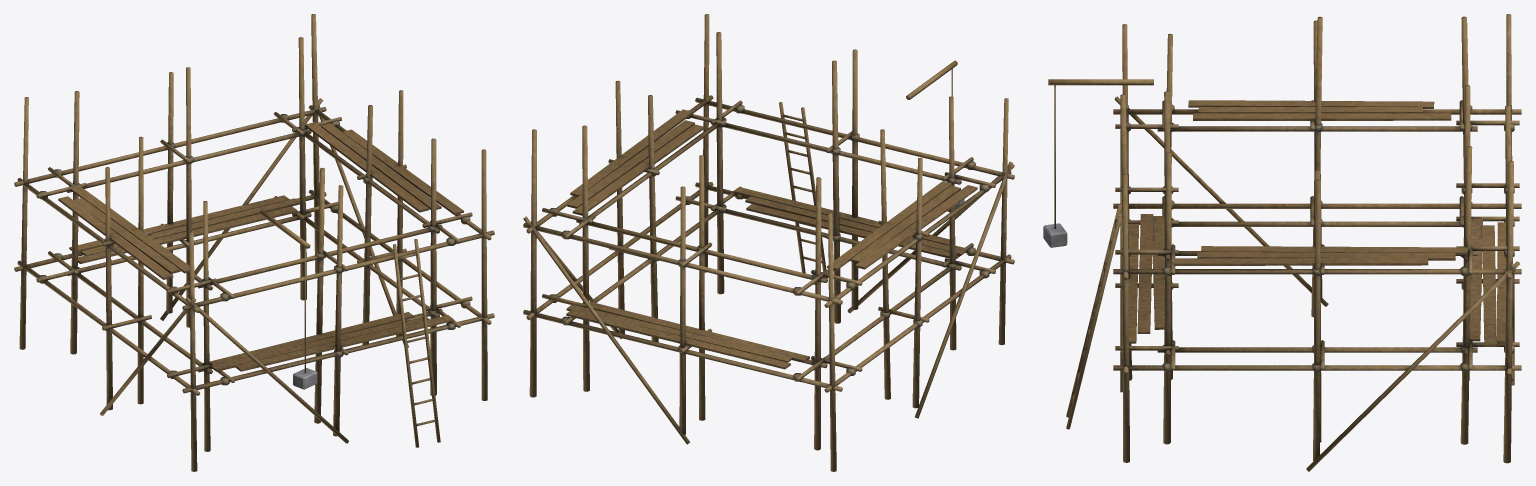
The model's file is geruest.glb.
The picture shows the model from 3 angles, left to right: view 1: azimuth 30°, elevation 25°; view 2: azimuth 150°, elevation 25°; view 3: azimuth 270°, elevation 25°; orthographic projection. The views are drawn at different scales.
Parts seen in each view (by area): view 1: geruest; view 2: geruest; view 3: geruest.
Boxes of the visible parts, box(x1,y1,x2,y2) form: geruest: box(14, 14, 494, 471); geruest: box(523, 14, 1014, 471); geruest: box(1043, 14, 1521, 471).
Size of the model in its own units: 5.79 by 4.84 by 6.78.
1 material, 1 textured.
